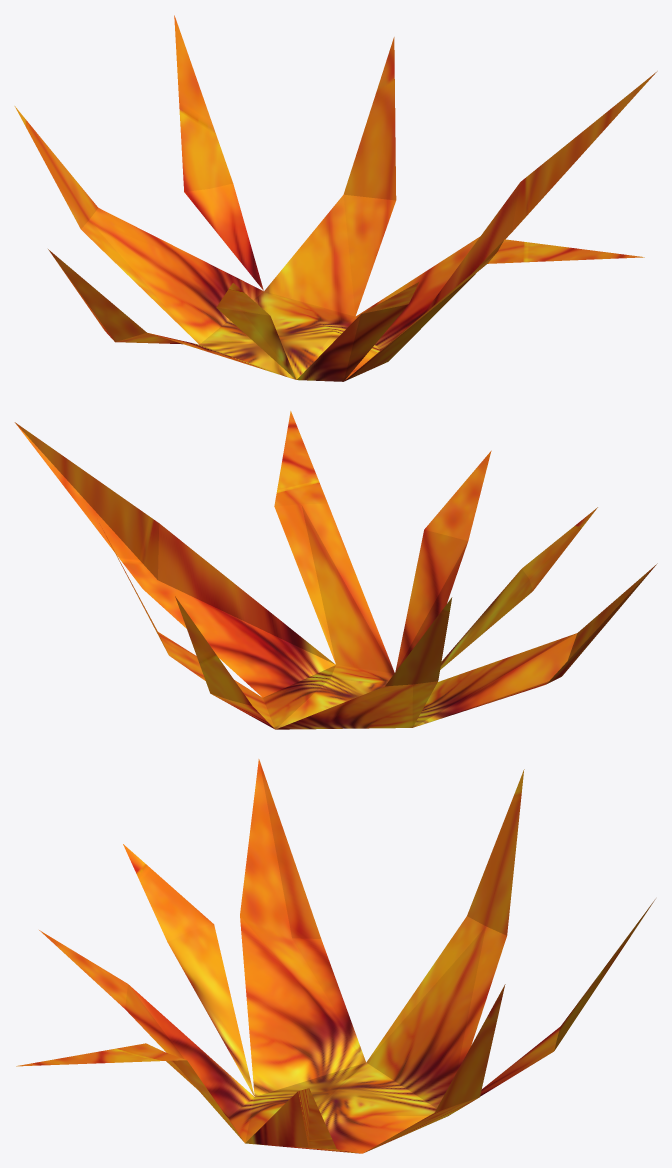
Rendered from Island_1_TFlower_5.gltf.
3 views of the same model, one above another, from view 1: azimuth 30°, elevation 25°; view 2: azimuth 150°, elevation 25°; view 3: azimuth 270°, elevation 25° (orthographic). The views are drawn at different scales.
Parts seen in each view (by area): view 1: Island_1_TFlower_5; view 2: Island_1_TFlower_5; view 3: Island_1_TFlower_5.
Boxes of the visible parts, x1,y1,x2,y2 form: Island_1_TFlower_5: [14, 15, 657, 381]; Island_1_TFlower_5: [14, 411, 657, 729]; Island_1_TFlower_5: [16, 759, 655, 1153].
Bounding box in the file's own units: 1.59 × 0.5397 × 1.28.
1 material, 1 textured.
